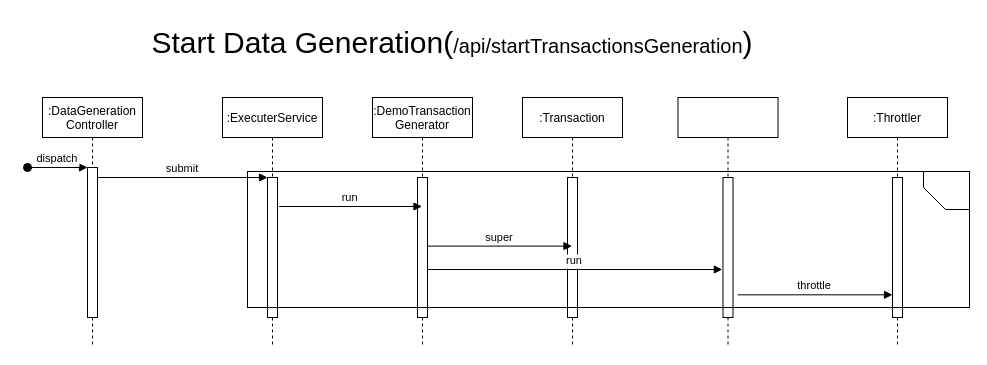
Image size: 987x365. Some labels were removed from this diagram. The shapes that lost their labels are listed below. From the top down, each one's box as (x1, y1, x2, y2) in pixels, then its label:
(922, 170, 970, 210): Loop
(677, 96, 778, 348): :Transaction Generator
